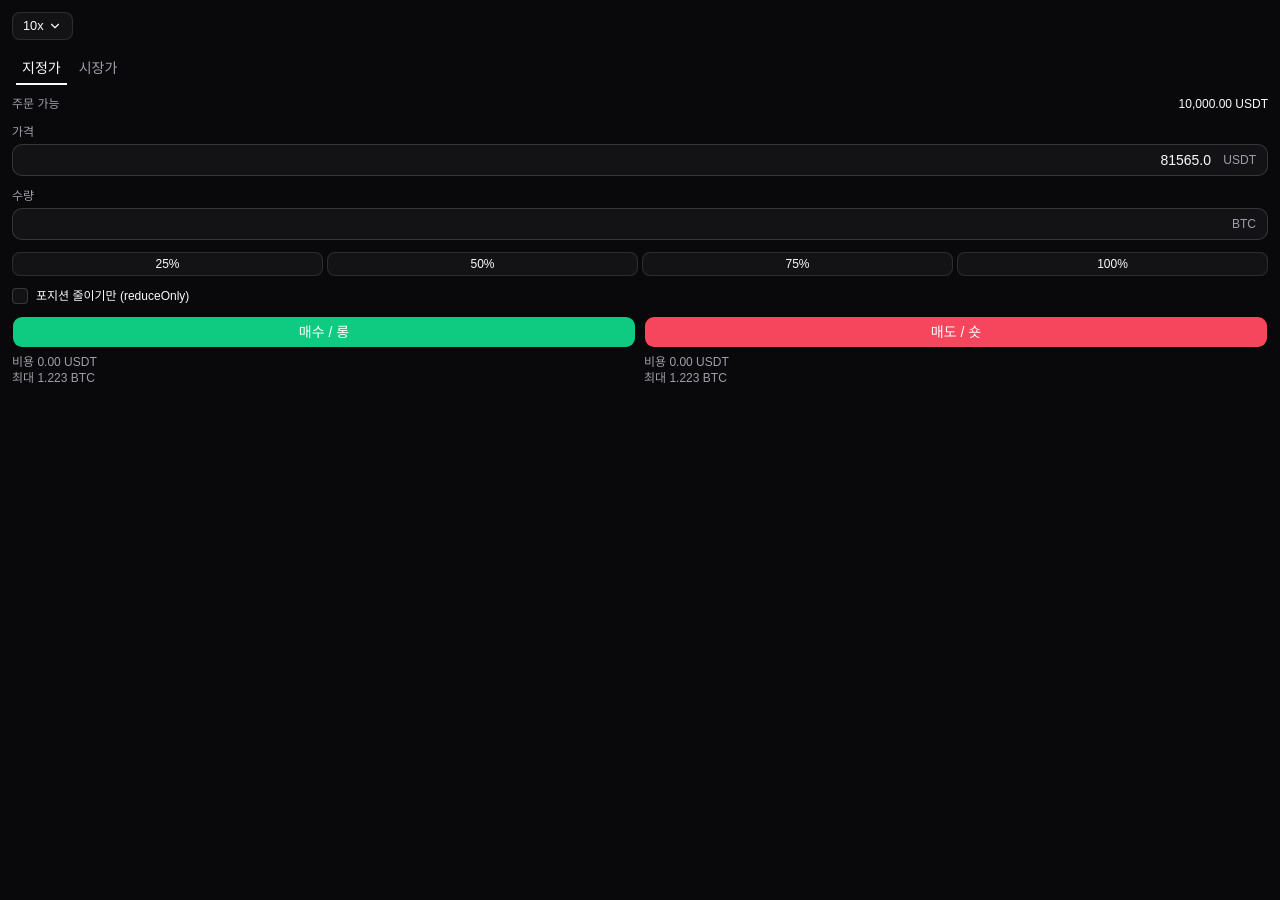
it: OrderForm › 서버가 거부하면 그 이유를 알린다
Expected: the field showing "81565.0" is shown, x1=12 y1=144 x2=1268 y2=176
Type "0.01" into the field labelled "수량".
click(640, 224); type("0.01")  # box x1=12 y1=208 x2=1268 y2=240
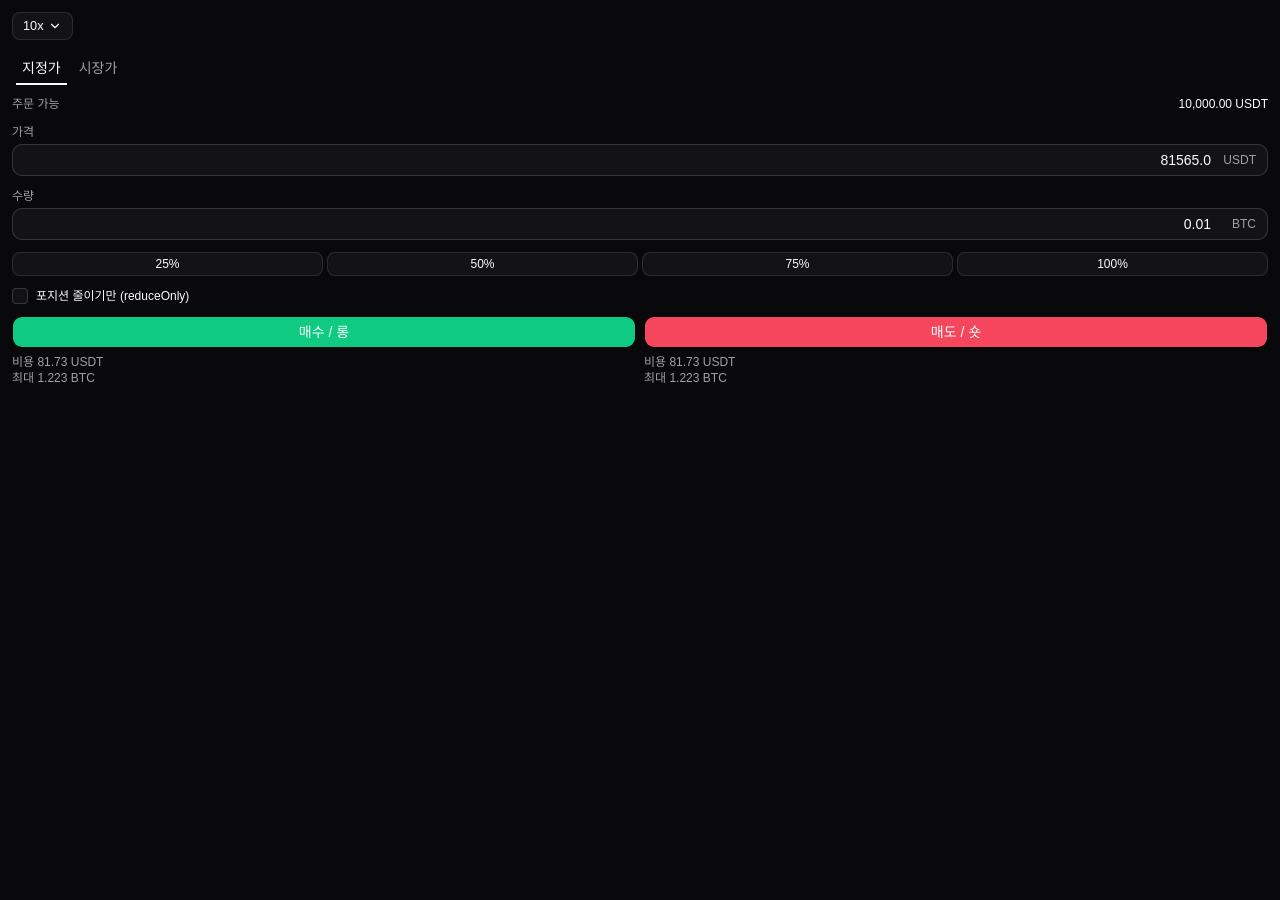
Click the button "매수 / 롱".
click(324, 332)  # box x1=12 y1=316 x2=636 y2=348
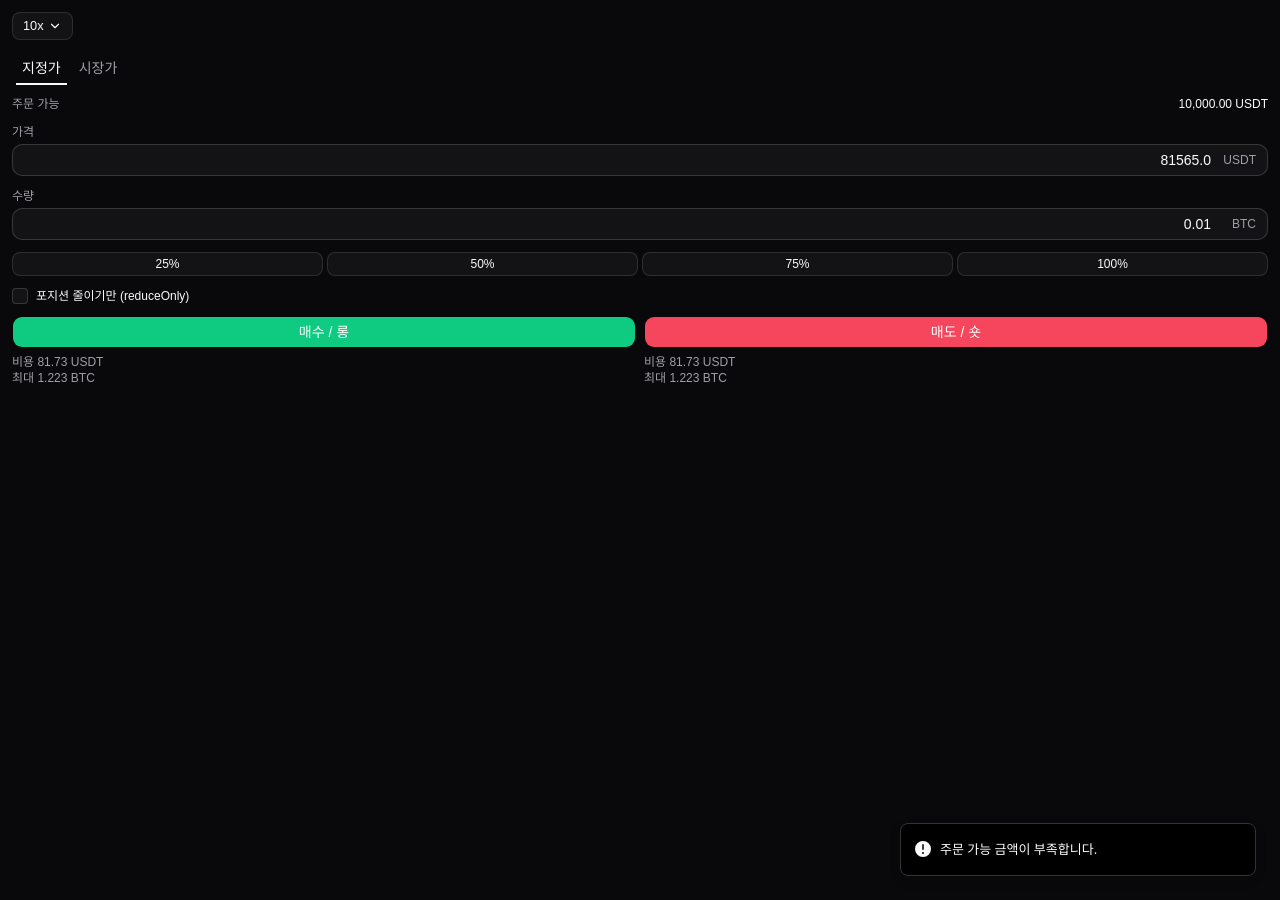
Now the text "주문 가능 금액이 부족합니다." is shown, box x1=940 y1=840 x2=1097 y2=859
